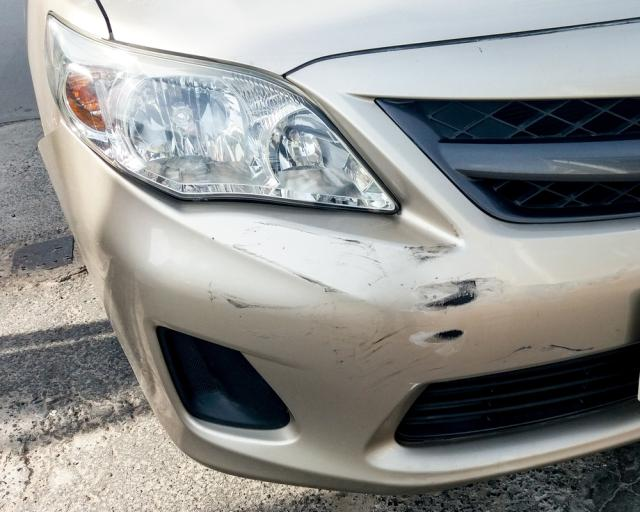scratch: (204, 218, 511, 381), (496, 339, 598, 361)
